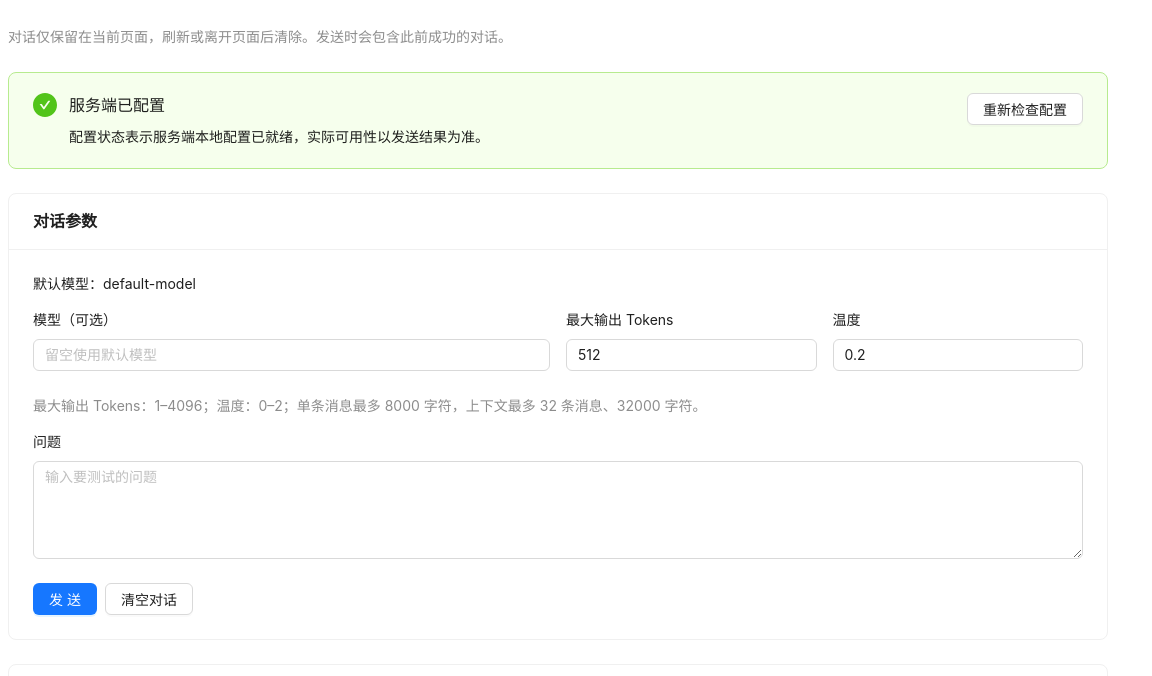
Test case: AI dialogue at the HTTP boundary › clears conversation and the draft and starts a new conversation
The width and height of the screenshot is (1152, 676).
Expected: the text "服务端已配置" is shown, [69, 95, 165, 115]
Type "你好" into the text box labelled "问题" at point(558, 510), box [33, 461, 1083, 559]
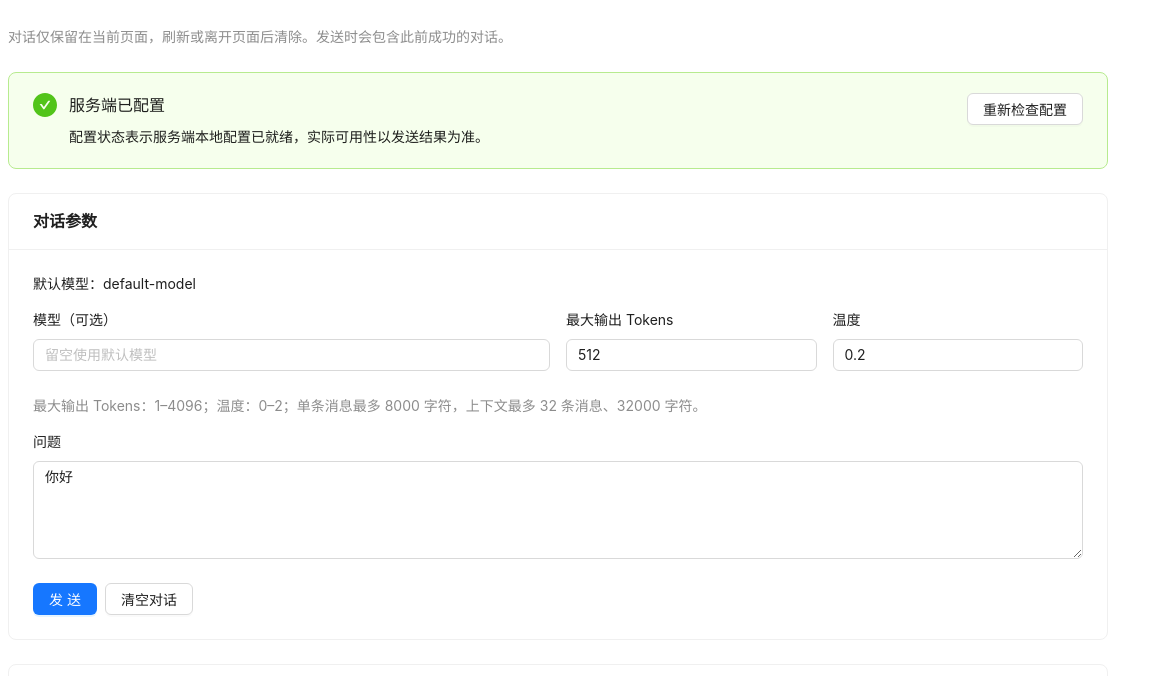
Click the button named "发送" at point(65, 599), box [33, 583, 97, 615]
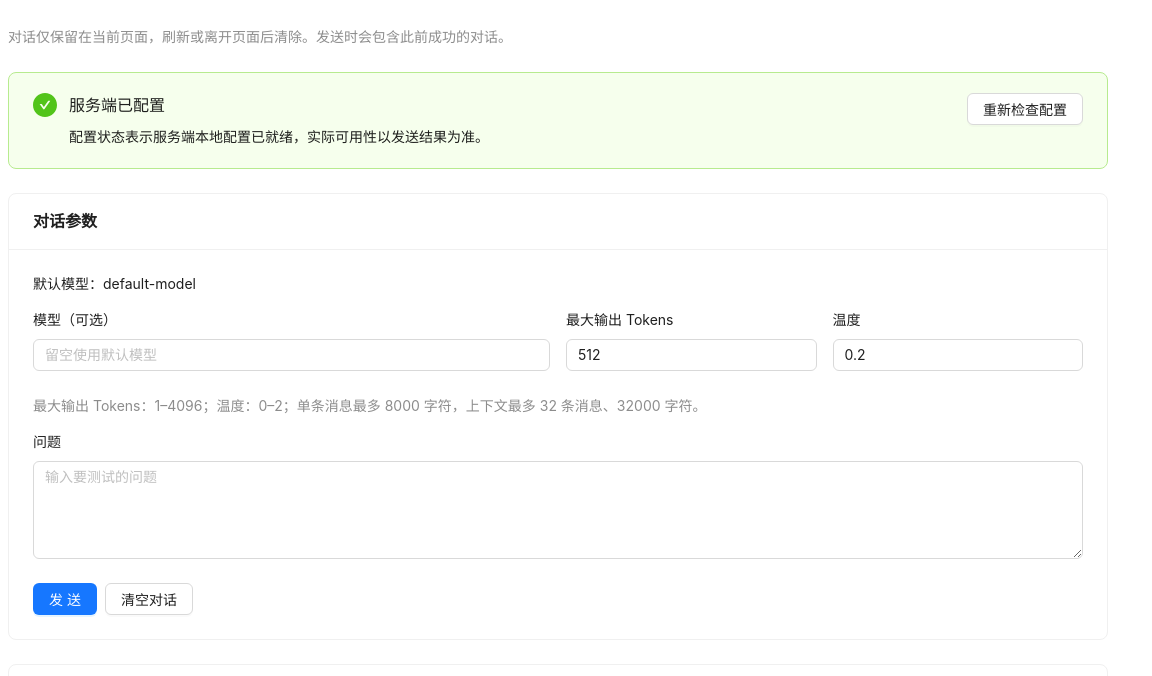
Type "草稿" into the text box labelled "问题" at point(558, 510), box [33, 461, 1083, 559]
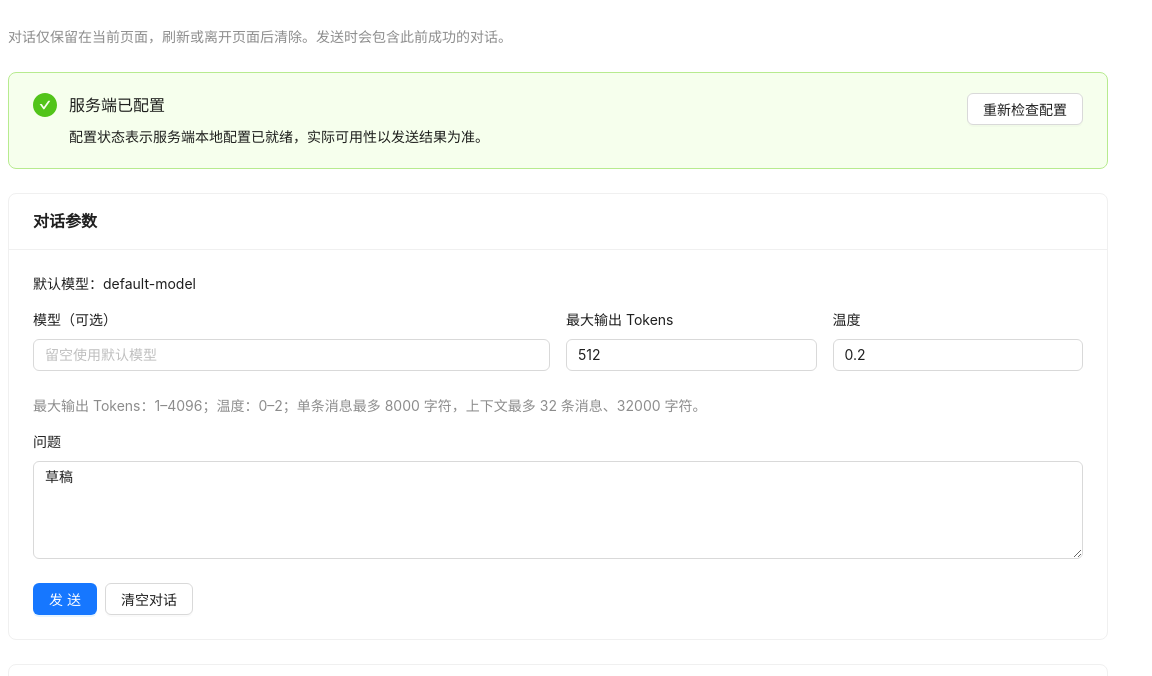
Click the button "清空对话" at point(149, 599), box [105, 583, 193, 615]
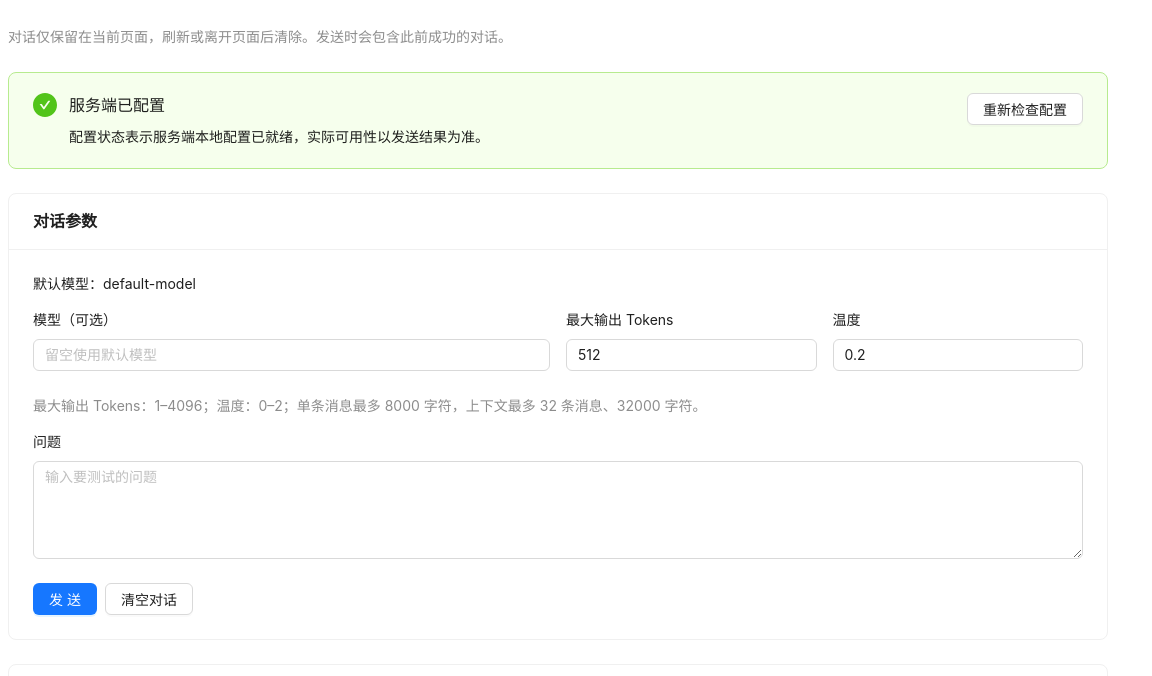
Expected: the text "你好，这是回答" is not shown
Expected: the text box labelled "问题" is empty
Type "新问题" into the text box labelled "问题" at point(558, 510), box [33, 461, 1083, 559]
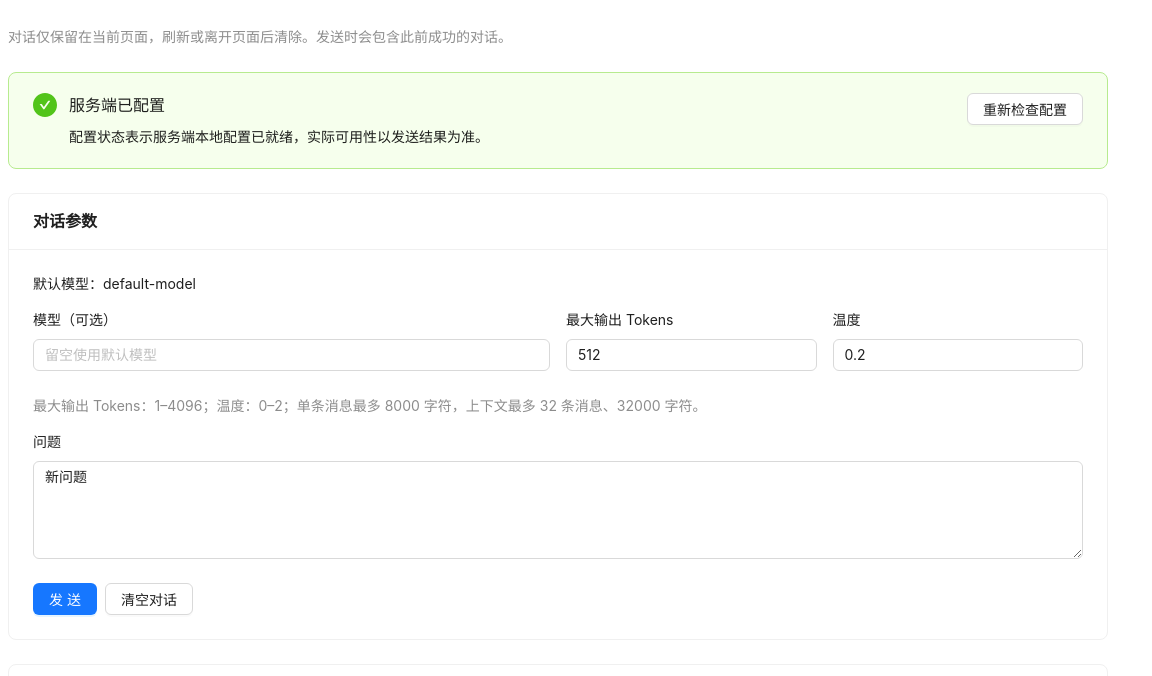
Click the button named "发送" at point(65, 599), box [33, 583, 97, 615]
(page scrolled)
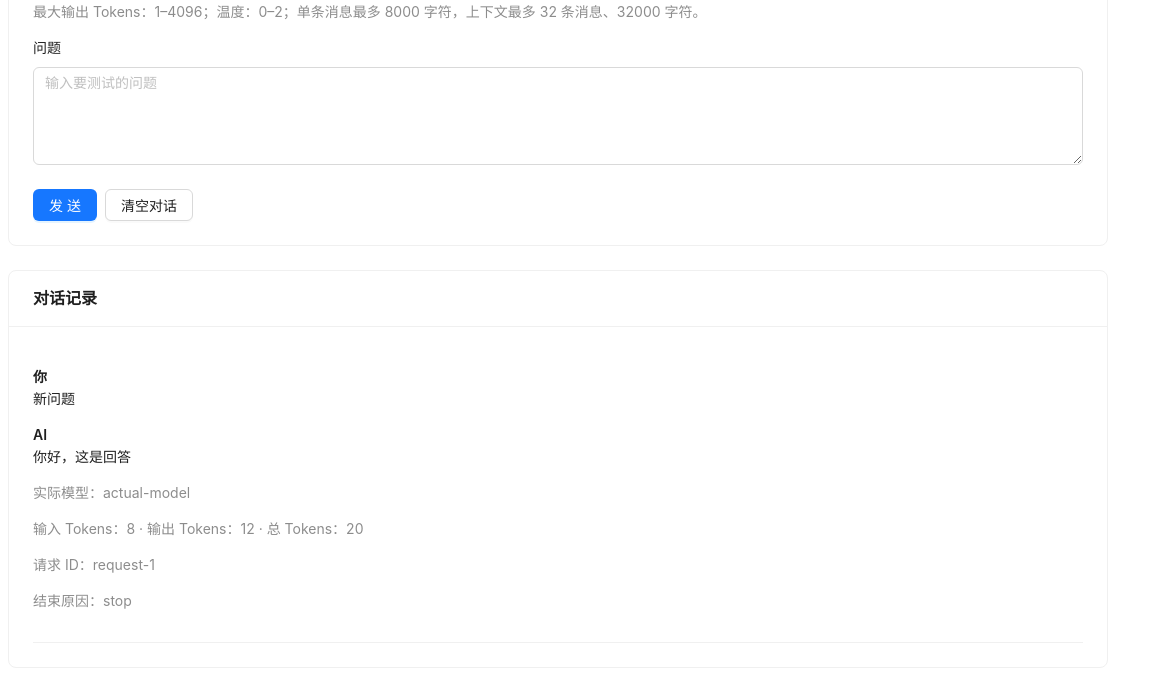
Expected: the text "你好，这是回答" is shown, [33, 448, 131, 465]
